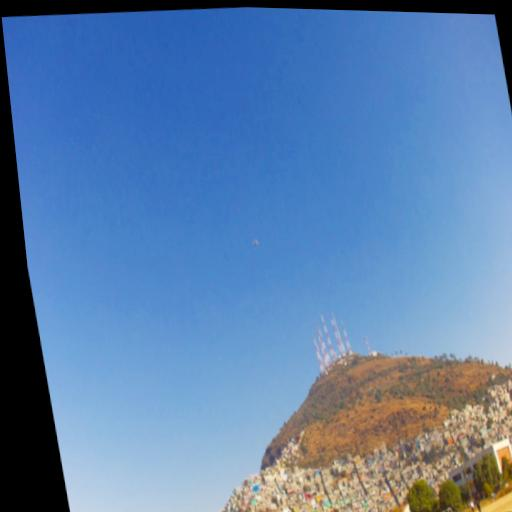drones: (250, 236, 261, 249)
